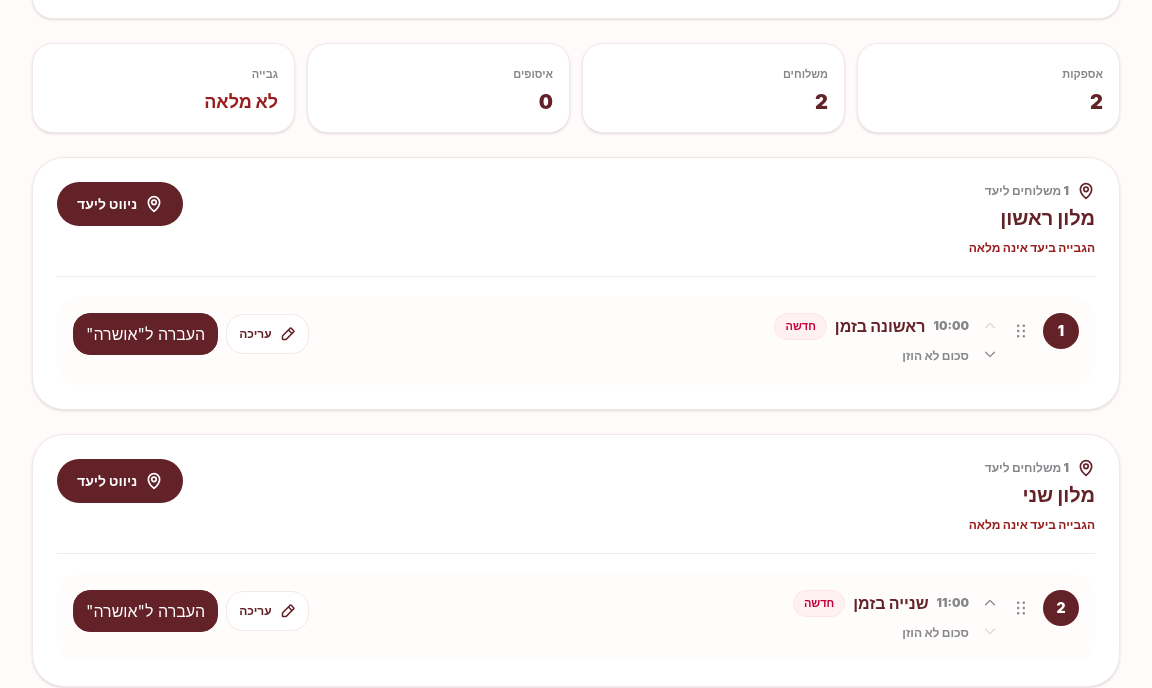
it: DeliveriesScreen › persists the new order through the arrows and reflects the manual order after the save
(page scrolled)
What coordinates should you click on to do the following:
click the button named "העברת ראשונה בזמן מאוחר יותר במסלול"
I would click on:
 (990, 355)
Its box is [981,341,999,369].
(page scrolled)
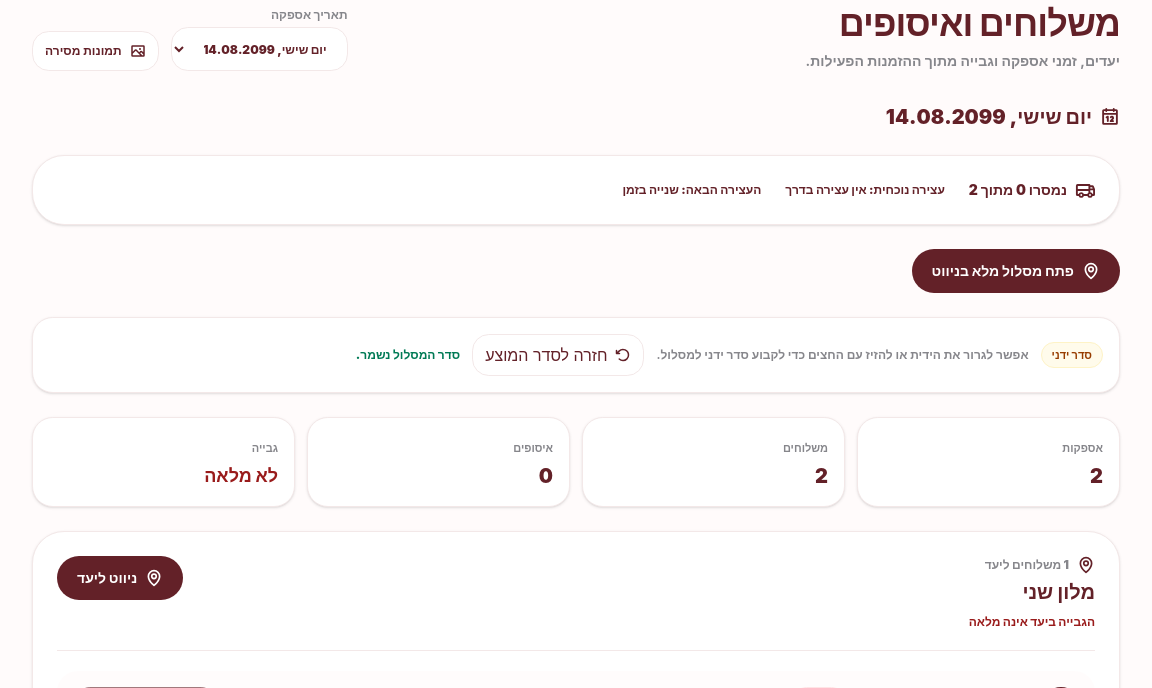
Expected: the text "סדר המסלול נשמר." is shown, [356,347,460,363]
Expected: the text "סדר ידני" is shown, [1041,342,1103,368]
